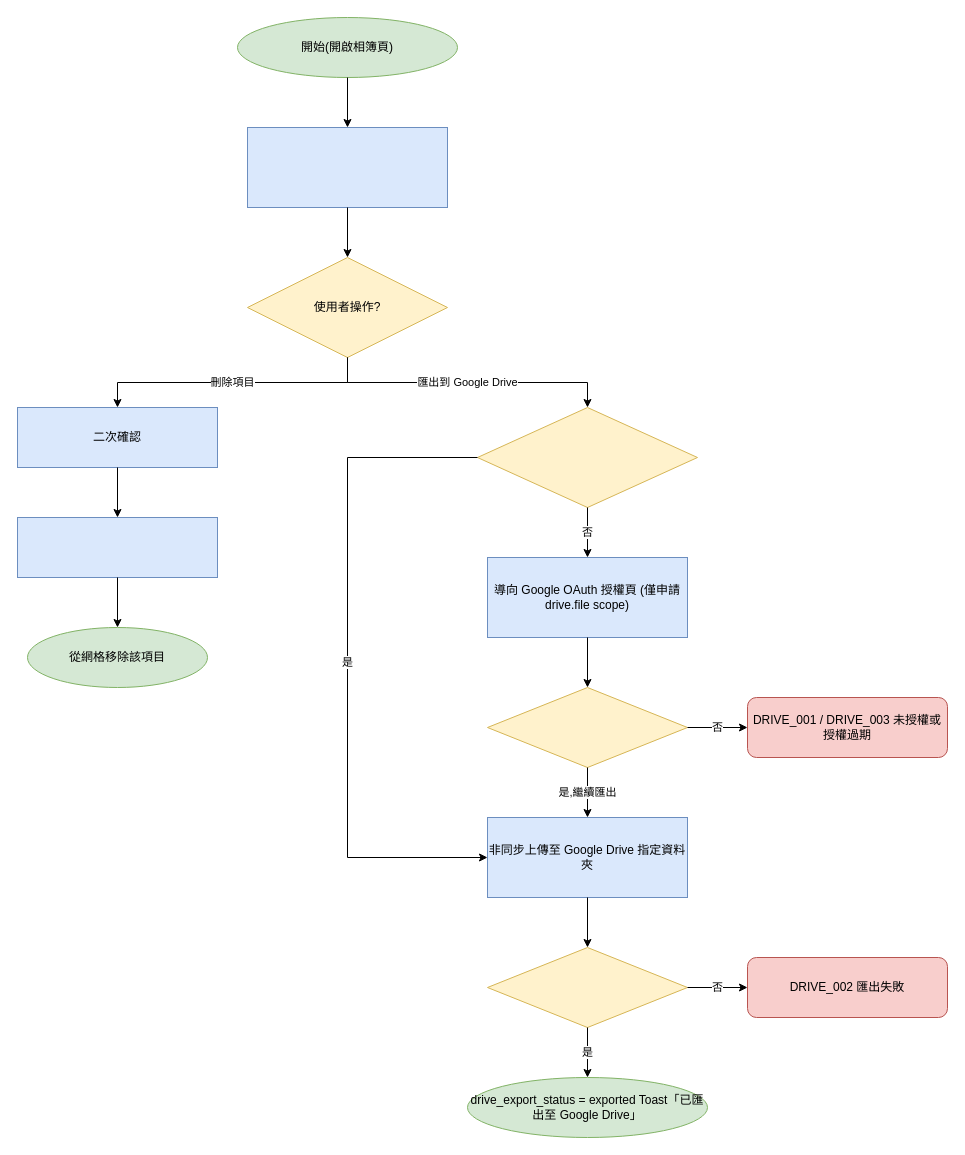
This 965x1155 diagram has some shape labels left out. Here are the shapes that lost their labels. From the top down, the centre of each, then its label:
point (347, 167): 依 captured_at 日期分組顯示 (僅 status=ready 項目)
point (587, 457): 已連結 Google Drive?
point (117, 547): 刪除 media_items 紀錄 連同 R2 物件
point (587, 727): 授權成功?
point (587, 987): 上傳成功?
